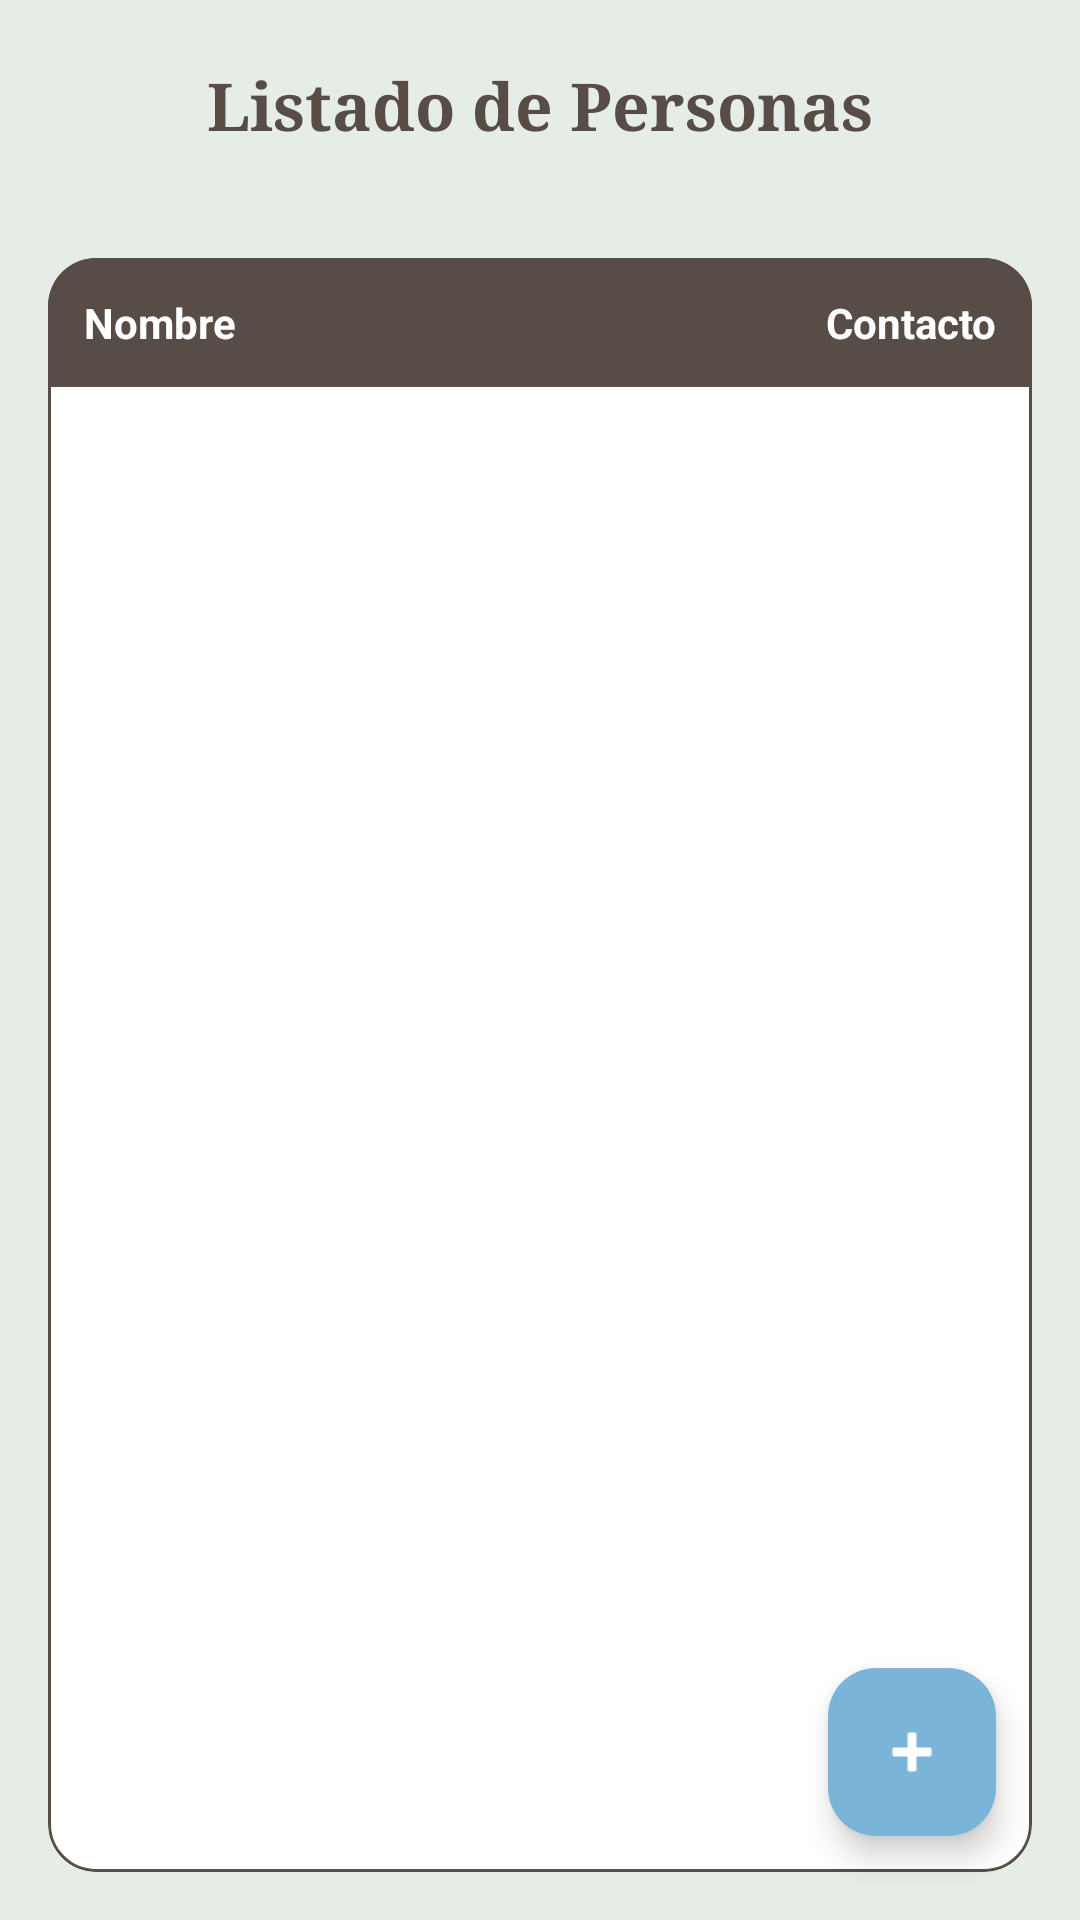

Screen size 1080 x 1920. Icon name, then its box in pixels as (x1, y1, x2, y2):
add: (828, 1668, 996, 1836)
